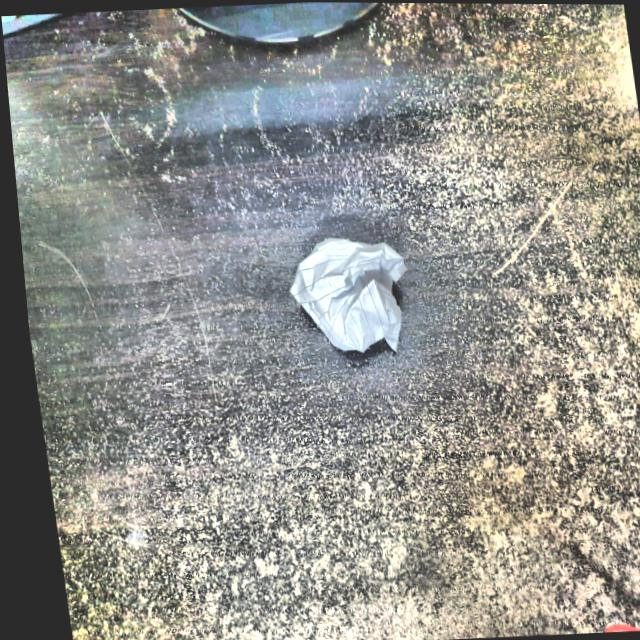Paper: (277, 229, 414, 363)
